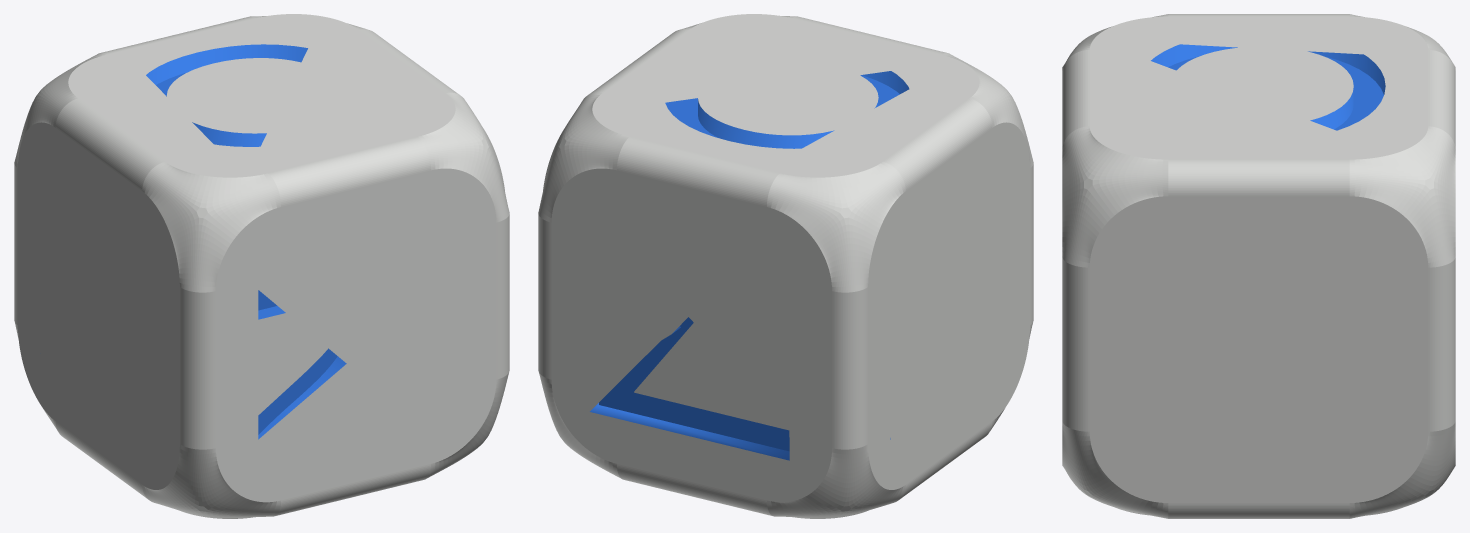
File: BoggleDice.fbx_Die4.fbx
3 views of the same model, side by side, from view 1: azimuth 30°, elevation 25°; view 2: azimuth 150°, elevation 25°; view 3: azimuth 270°, elevation 25° (orthographic). The views are drawn at different scales.
Visible parts, largest first — view 1: Die4; view 2: Die4; view 3: Die4.
Boxes of the visible parts, x1,y1,x2,y2 form: Die4: (14,14,509,518); Die4: (538,14,1033,518); Die4: (1062,14,1455,518).
Bounding box in the file's own units: 200 × 200 × 200.
